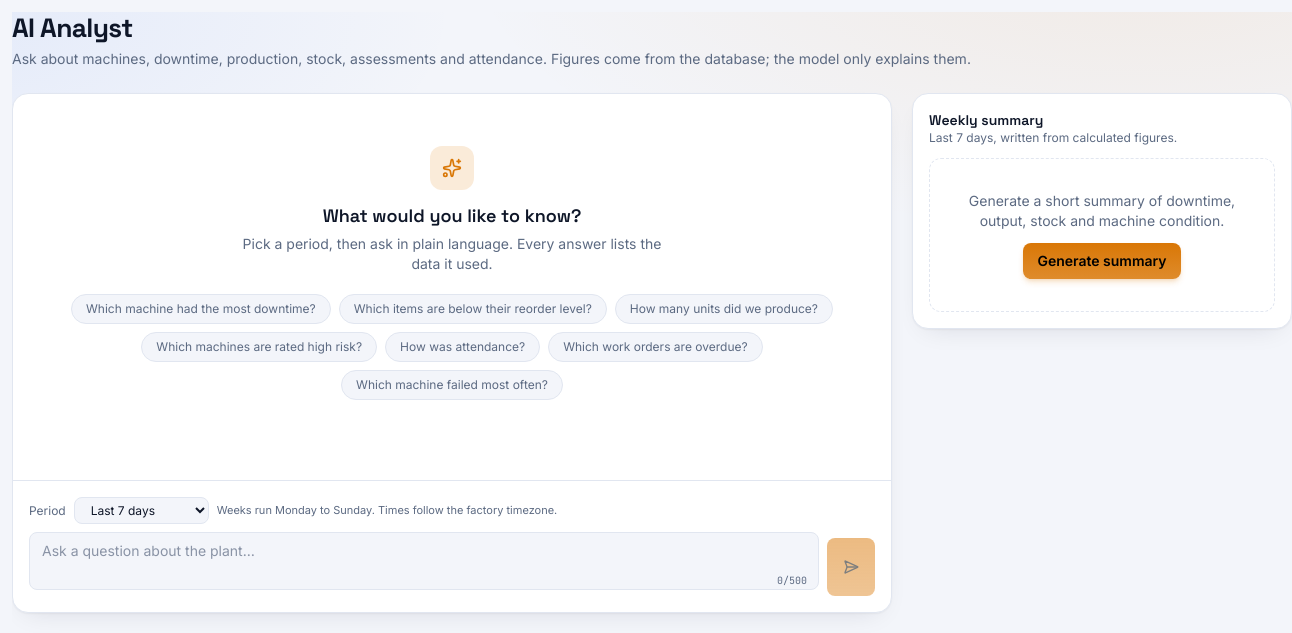
Test: asking a question › sends the question with the selected preset and shows a grounded answer
Select "This week" in the dropdown labelled "Period" at x=141, y=510, box left=74, top=497, right=209, bottom=524
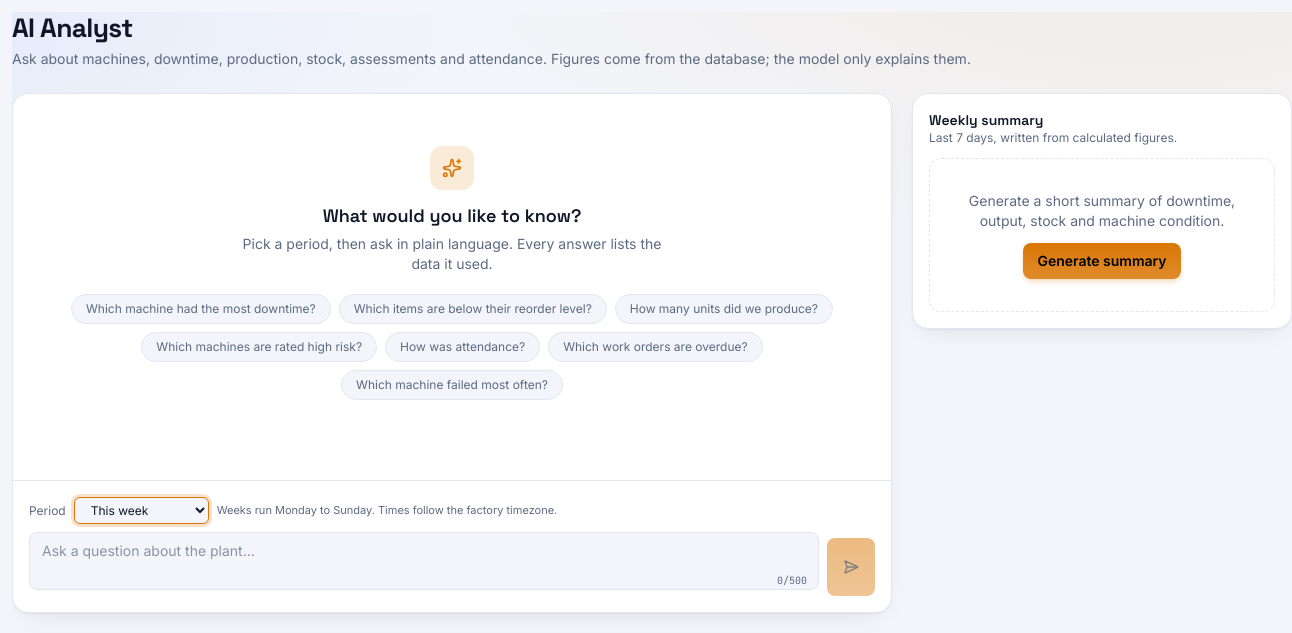
Type "Which machine had the most downtime?" into the text box named "Your question".
click(424, 561); type("Which machine had the most downtime?")  # box left=29, top=532, right=819, bottom=590
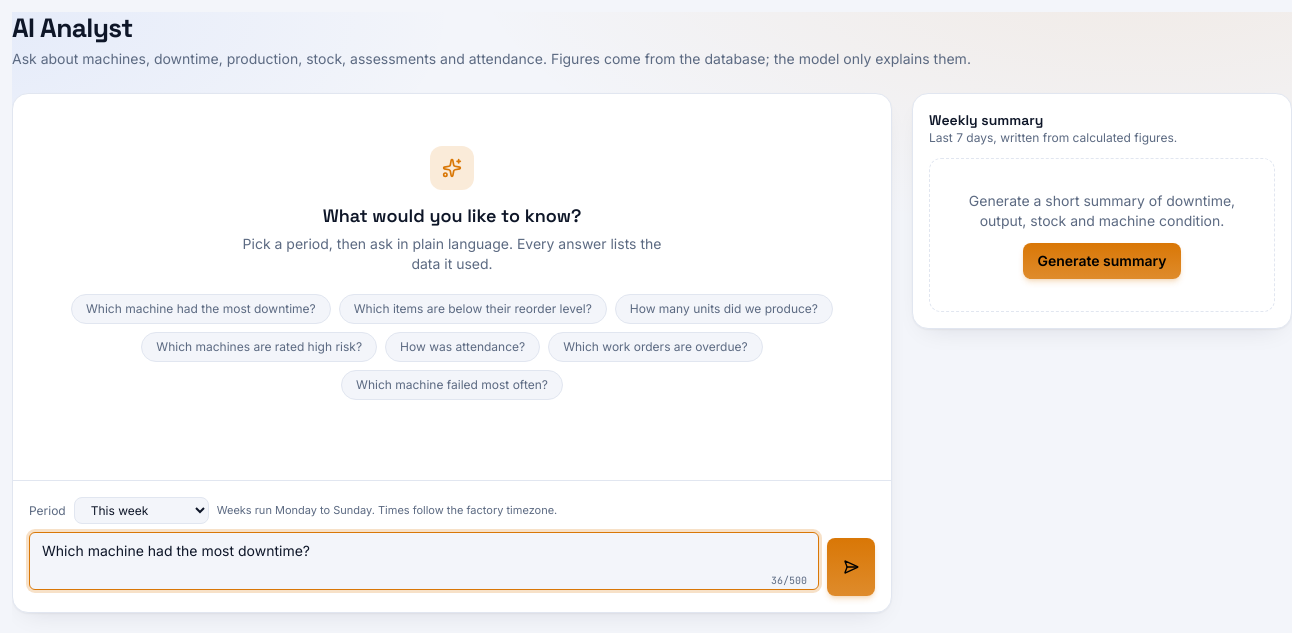
Press Enter
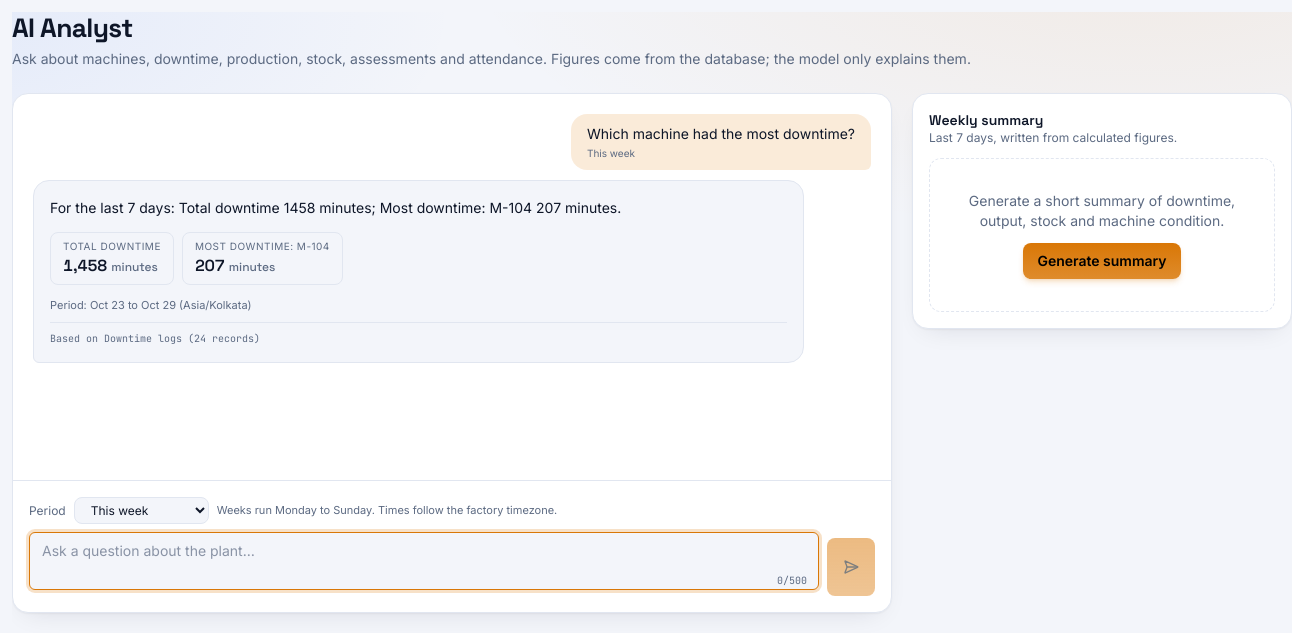
Result: the text "Total downtime 1458 minutes" is shown at left=50, top=199, right=621, bottom=216
Result: the text "1,458" is shown at left=63, top=255, right=107, bottom=276
Result: the text "Most downtime: M-104" is shown at left=195, top=239, right=330, bottom=254
